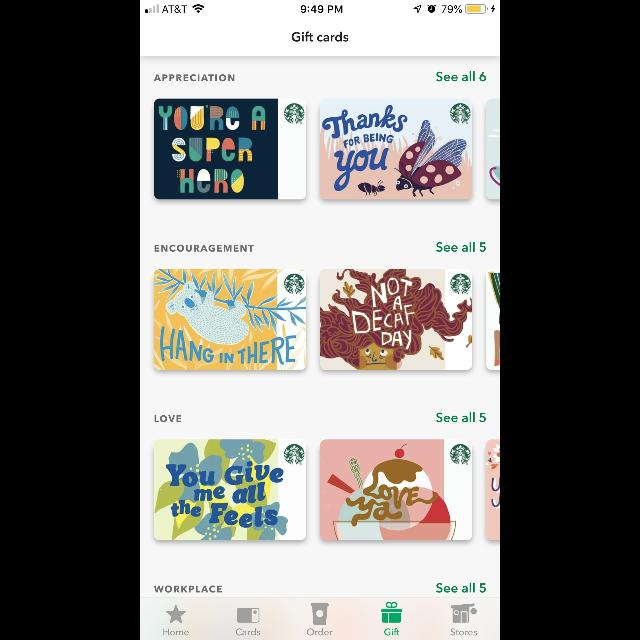icon: (166, 604, 186, 624), (382, 602, 402, 622), (237, 608, 259, 622)
image: (320, 99, 472, 200), (154, 99, 306, 200), (320, 440, 472, 540), (154, 440, 306, 540), (154, 270, 306, 370), (320, 270, 472, 370), (486, 268, 500, 369), (486, 99, 500, 200), (486, 440, 500, 540), (451, 604, 477, 622), (311, 602, 329, 626)
text: (154, 244, 253, 252), (153, 74, 234, 82), (292, 32, 348, 42), (436, 583, 486, 593), (436, 412, 486, 422), (436, 242, 486, 252), (436, 72, 486, 82), (154, 586, 222, 592), (451, 628, 477, 636), (307, 628, 333, 636), (236, 628, 260, 636), (164, 628, 188, 636), (154, 416, 182, 422), (384, 628, 400, 636)
uppertaskbar: (140, 0, 500, 14)
